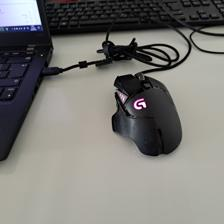mouse: (109, 71, 182, 158)
